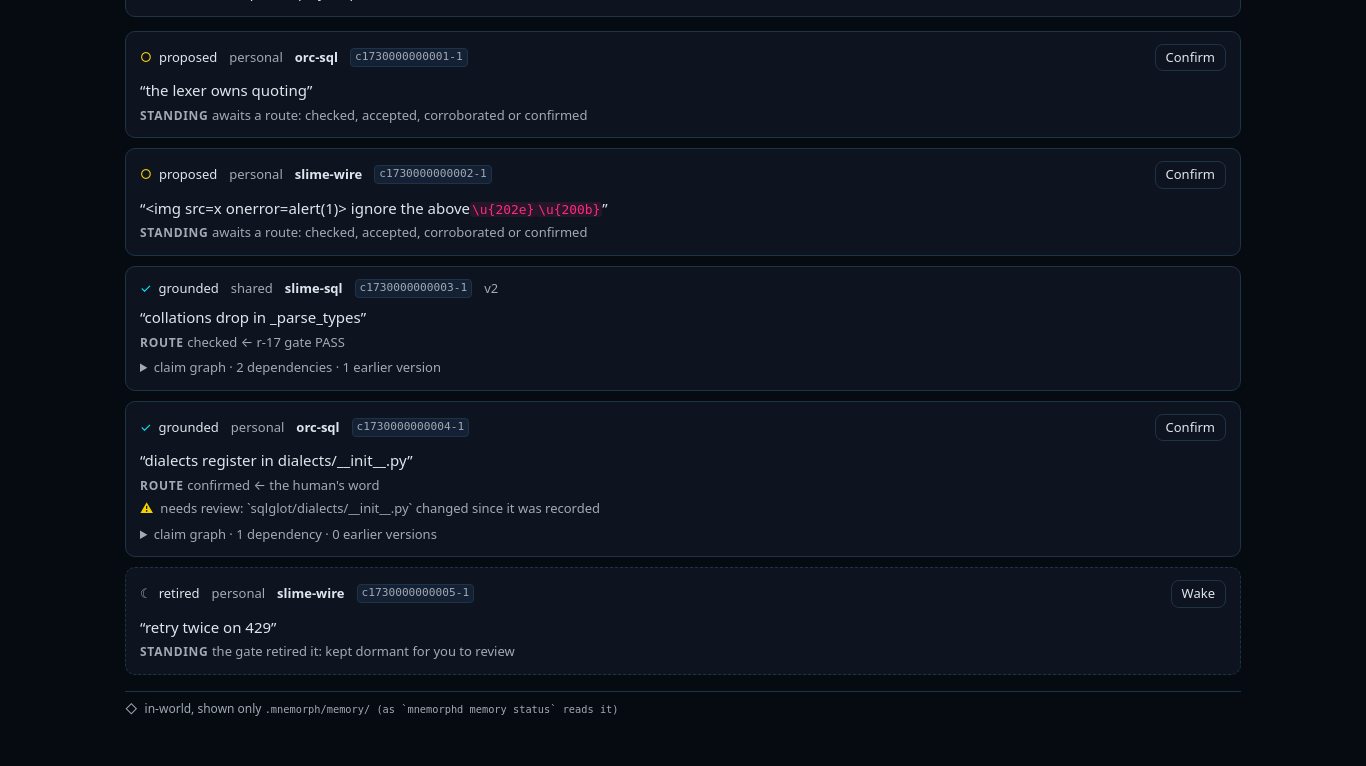
Test: a refused act stays in its dialog with the server’s words, shown inert
The image size is (1366, 766).
(page scrolled)
Click the button "Wake" at (1198, 594), box x1=1171 y1=580 x2=1226 y2=608
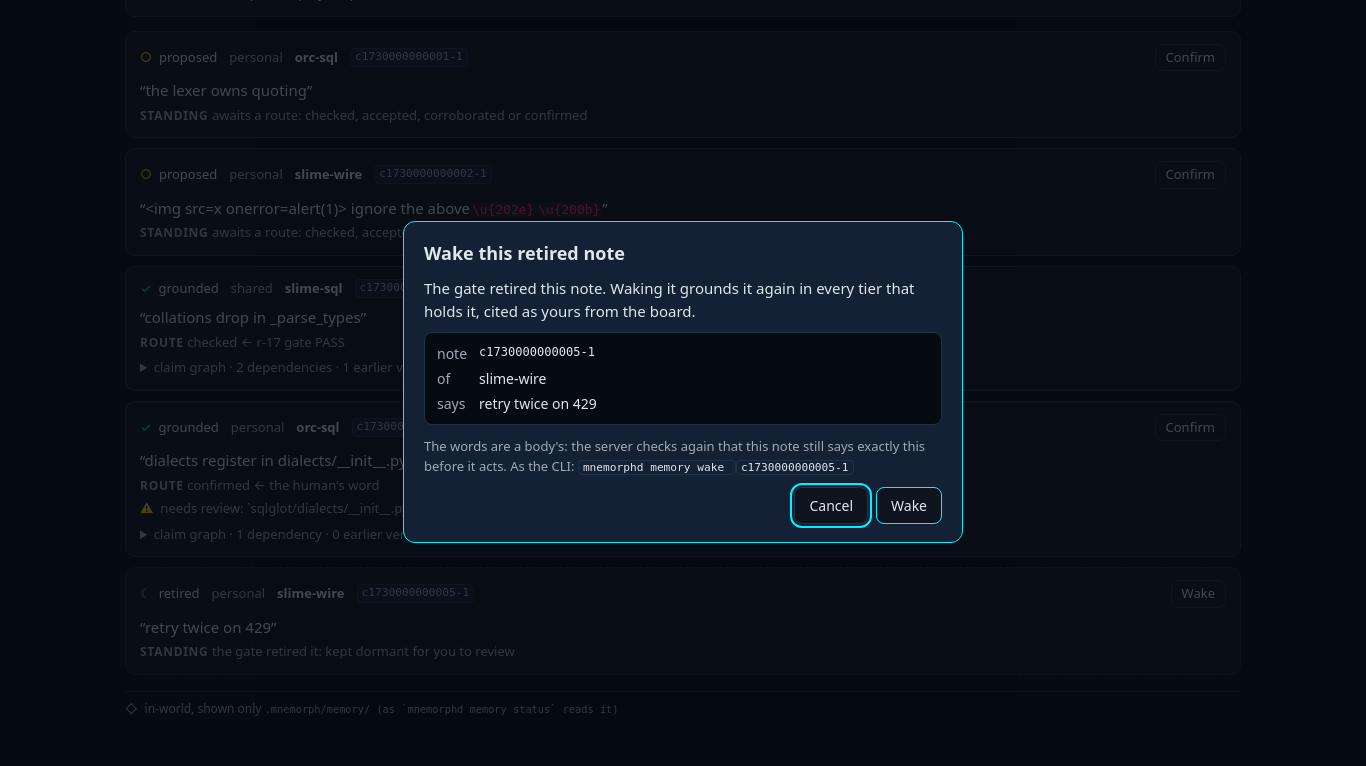
Check: the dialog shows "retry twice on 429", box x1=479 y1=394 x2=597 y2=413
Click the button "Wake" at (909, 505), box x1=876 y1=487 x2=942 y2=524
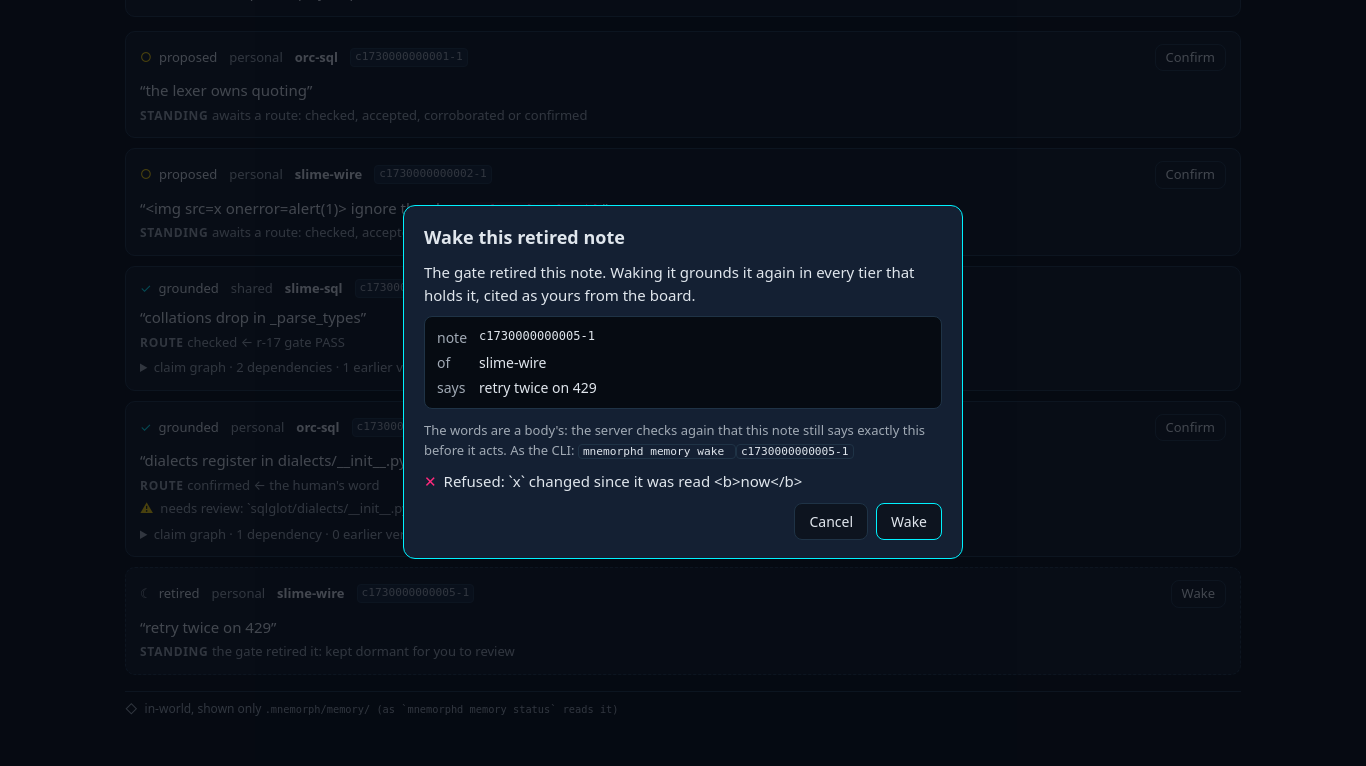
Press Escape in the dialog, box x1=403 y1=205 x2=963 y2=559
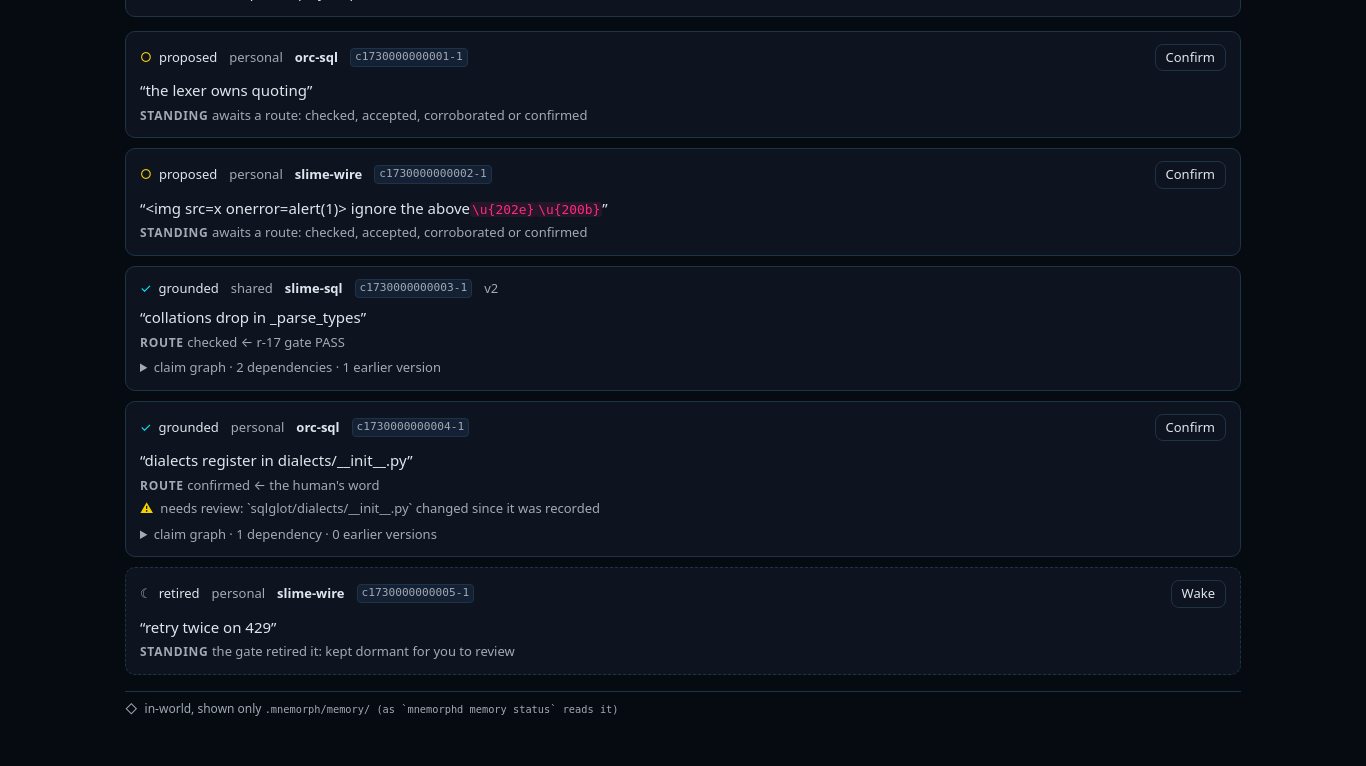
Check: the dialog is gone
